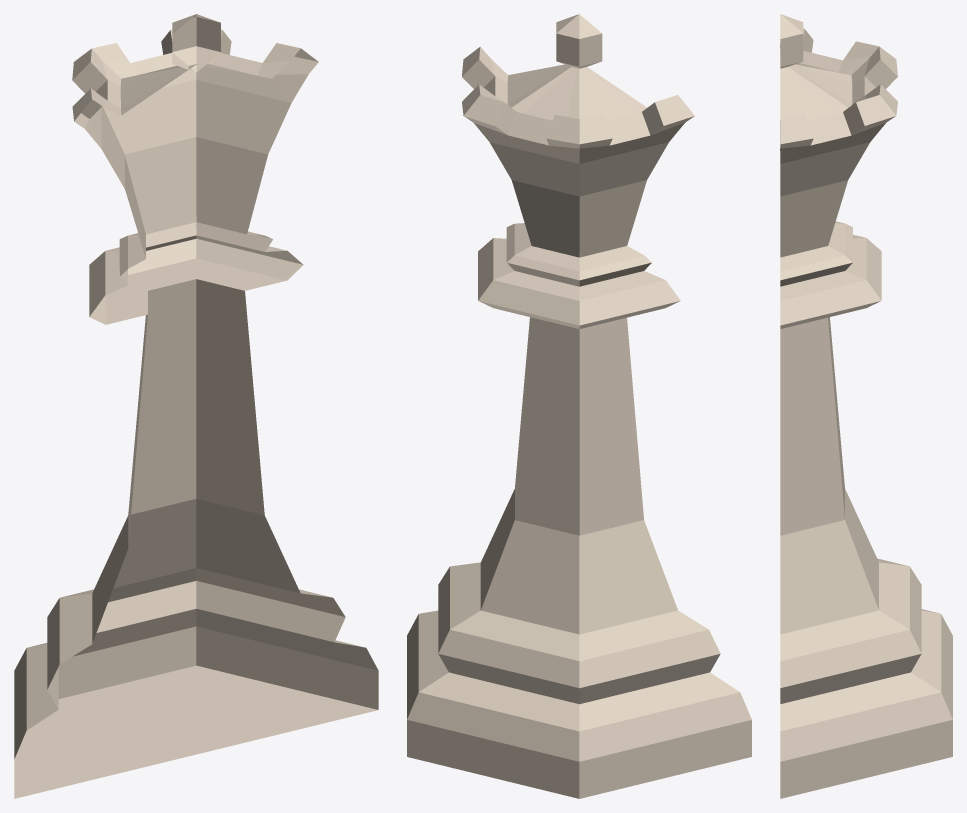
File: chess.glb
3 renders of one model, left to right at view 1: azimuth 30°, elevation 25°; view 2: azimuth 150°, elevation 25°; view 3: azimuth 270°, elevation 25°, orthographic. The views are drawn at different scales.
Parts seen in each view (by area): view 1: Queen; view 2: Queen; view 3: Queen.
Part boxes in pixels (x1,y1,x2,y2): Queen: (14, 14, 378, 798); Queen: (407, 14, 751, 798); Queen: (780, 14, 952, 798).
Size of the model in its own units: 0.8763 by 1.7 by 0.38.
